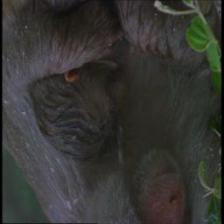monkey: (125, 150, 205, 223), (84, 62, 140, 145)
